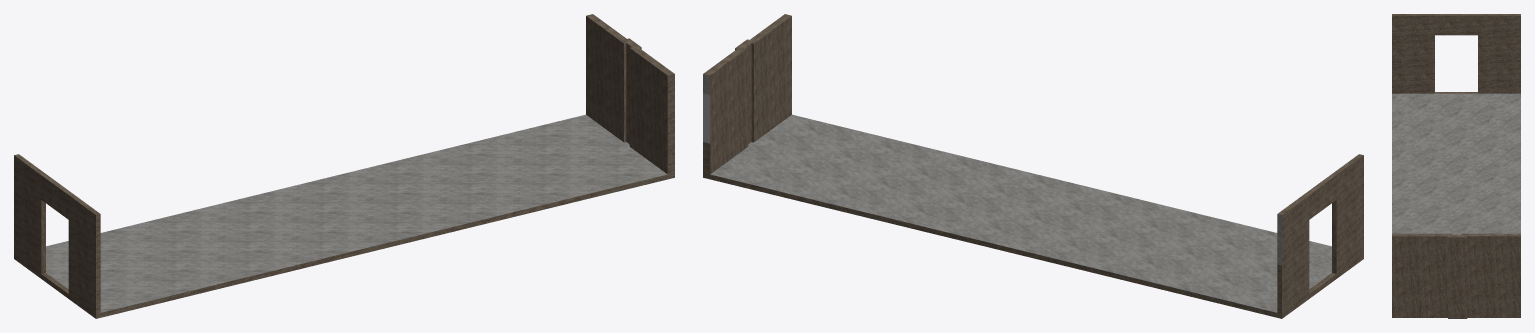
The model's file is Warehouse.gltf.
The picture shows the model from 3 angles, left to right: view 1: azimuth 30°, elevation 25°; view 2: azimuth 150°, elevation 25°; view 3: azimuth 270°, elevation 25°; orthographic projection. The views are drawn at different scales.
Visible parts, largest first — view 1: WarehouseMidLoading_Cube.002; view 2: WarehouseMidLoading_Cube.002; view 3: WarehouseMidLoading_Cube.002.
Part boxes in pixels (x1,y1,x2,y2): WarehouseMidLoading_Cube.002: [14, 14, 674, 318]; WarehouseMidLoading_Cube.002: [703, 14, 1363, 318]; WarehouseMidLoading_Cube.002: [1392, 14, 1520, 318].
Bounding box in the file's own units: 24.6 × 4.2 × 6.
1 material, 1 textured.
